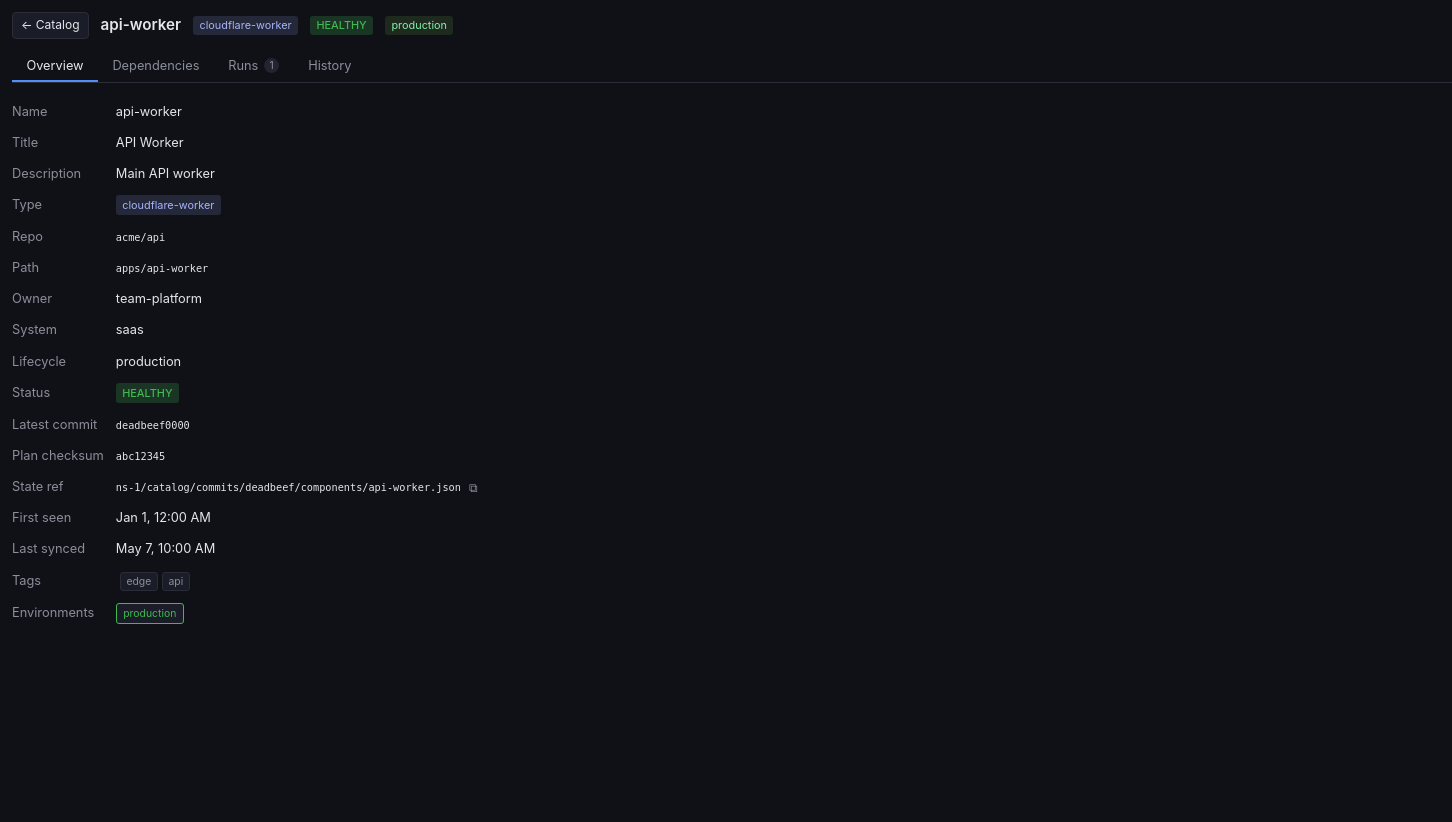
ComponentDetail › renders recent runs in runs tab
The width and height of the screenshot is (1452, 822).
Click the tab "Runs 1".
click(254, 66)  # box [214,51,294,82]
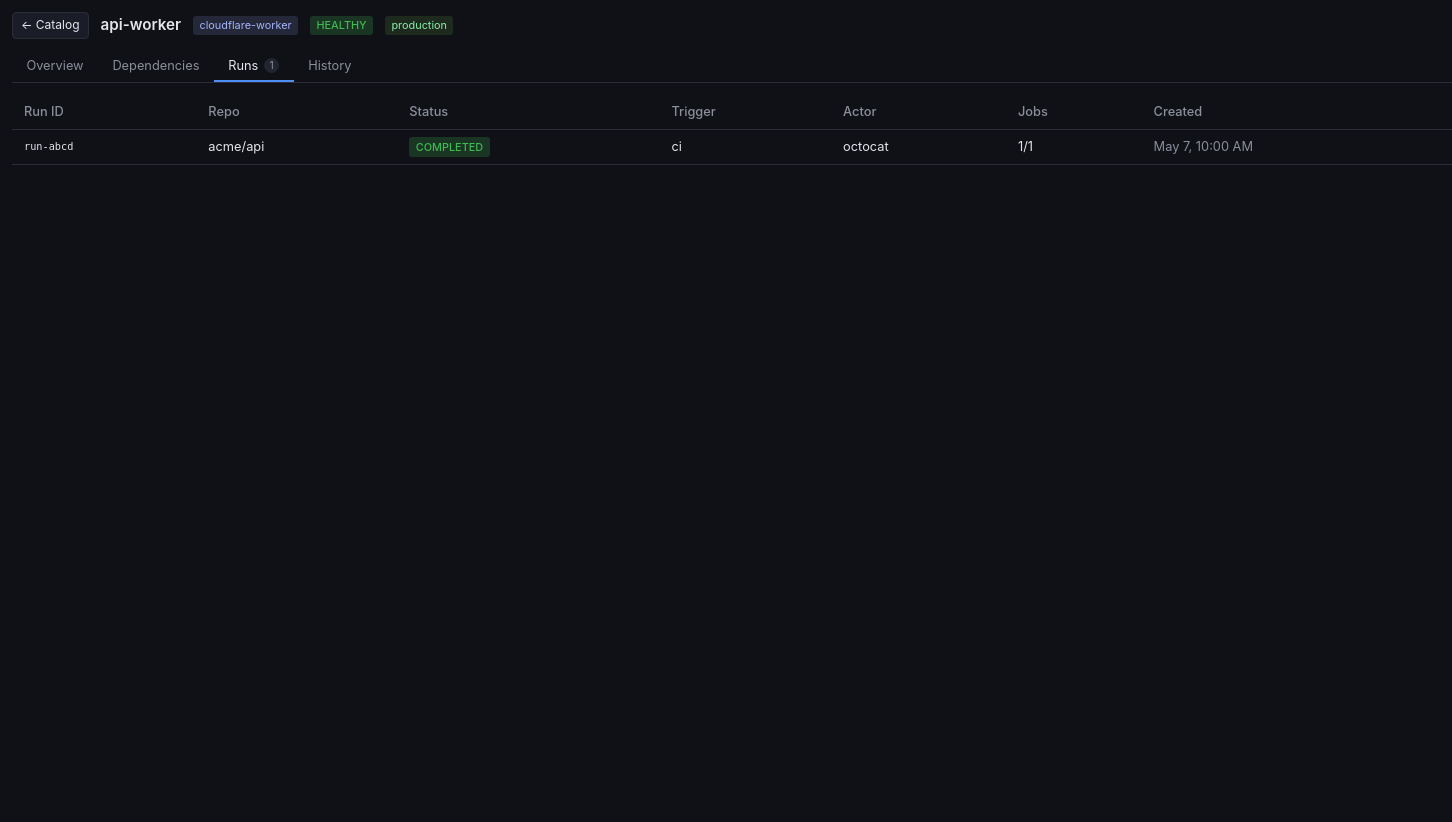
expect the text "run-abcd" is shown: met, box [12,129,196,164]
